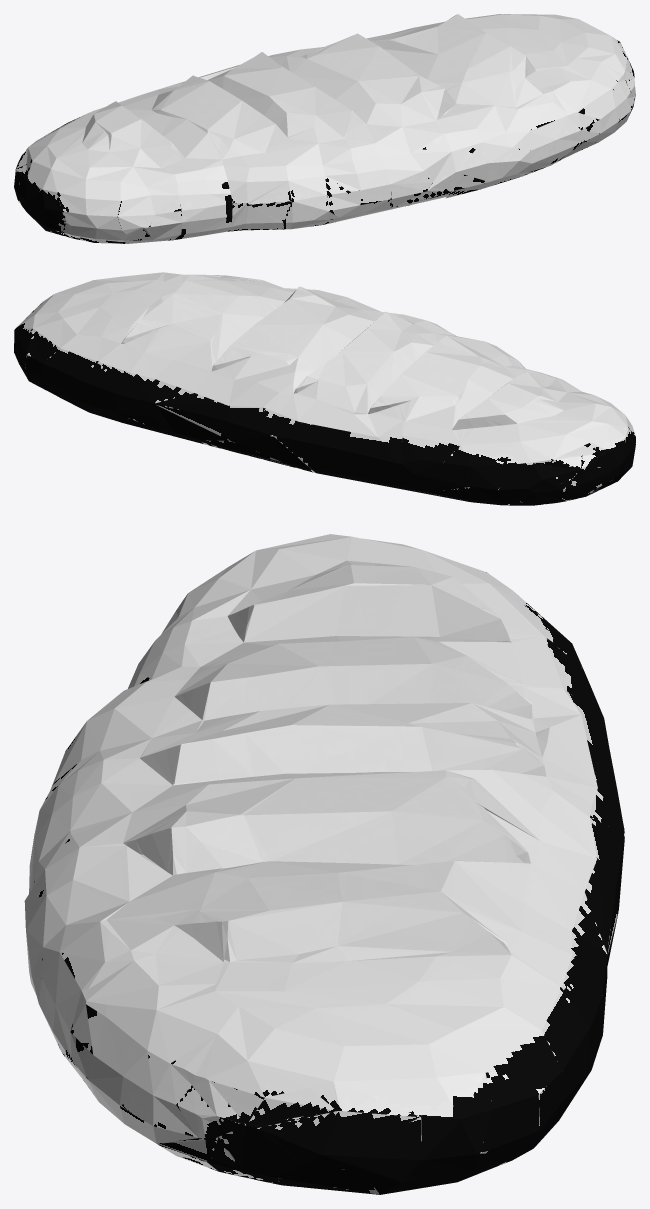
3 views of the same model, one above another, from view 1: azimuth 30°, elevation 25°; view 2: azimuth 150°, elevation 25°; view 3: azimuth 270°, elevation 25° (orthographic). The views are drawn at different scales.
Visible parts, largest first — view 1: OBJ0b5; view 2: OBJ0b5; view 3: OBJ0b5.
Boxes of the visible parts, left/top/right/bottom form: OBJ0b5: left=14, top=14, right=635, bottom=243; OBJ0b5: left=14, top=272, right=635, bottom=505; OBJ0b5: left=24, top=534, right=625, bottom=1194.
Size of the model in its own units: 0.3137 by 0.0432 by 0.1387.
Materials: 1 (1 with a texture image).
